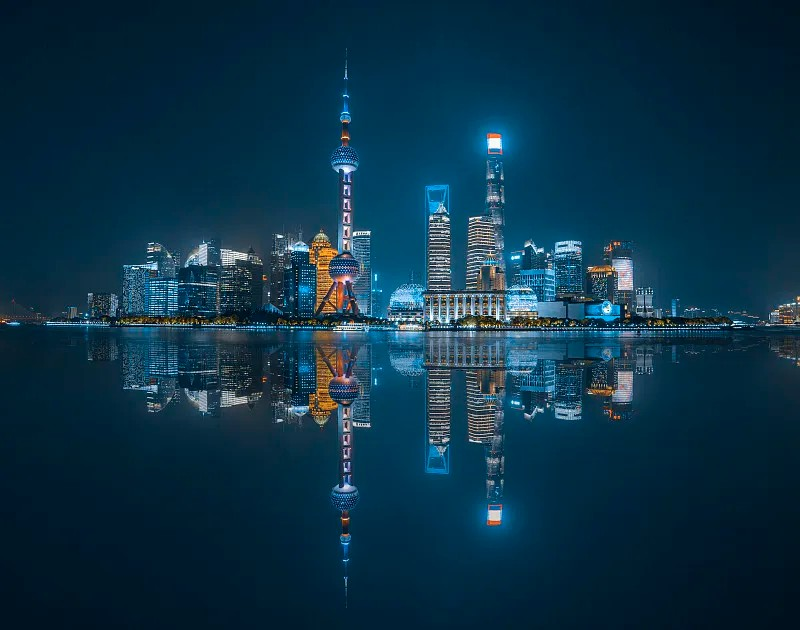Oriental: (313, 45, 362, 313)
